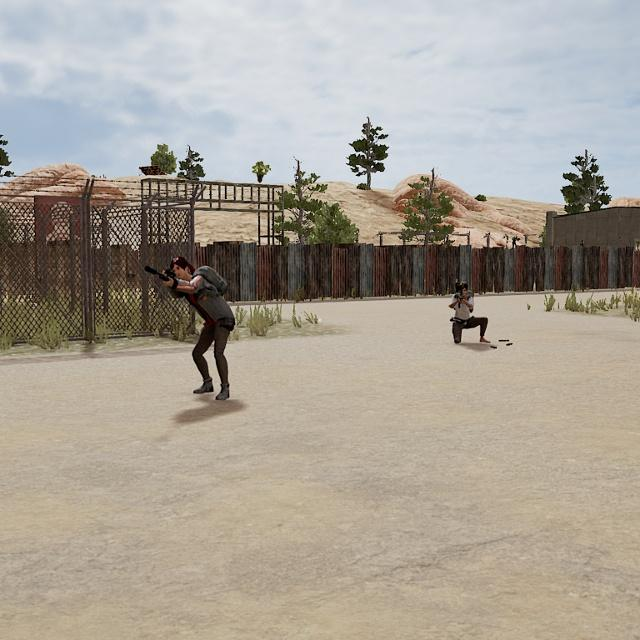head: (170, 255, 193, 283), (457, 281, 470, 298)
people: (167, 255, 237, 404), (449, 281, 491, 346)
